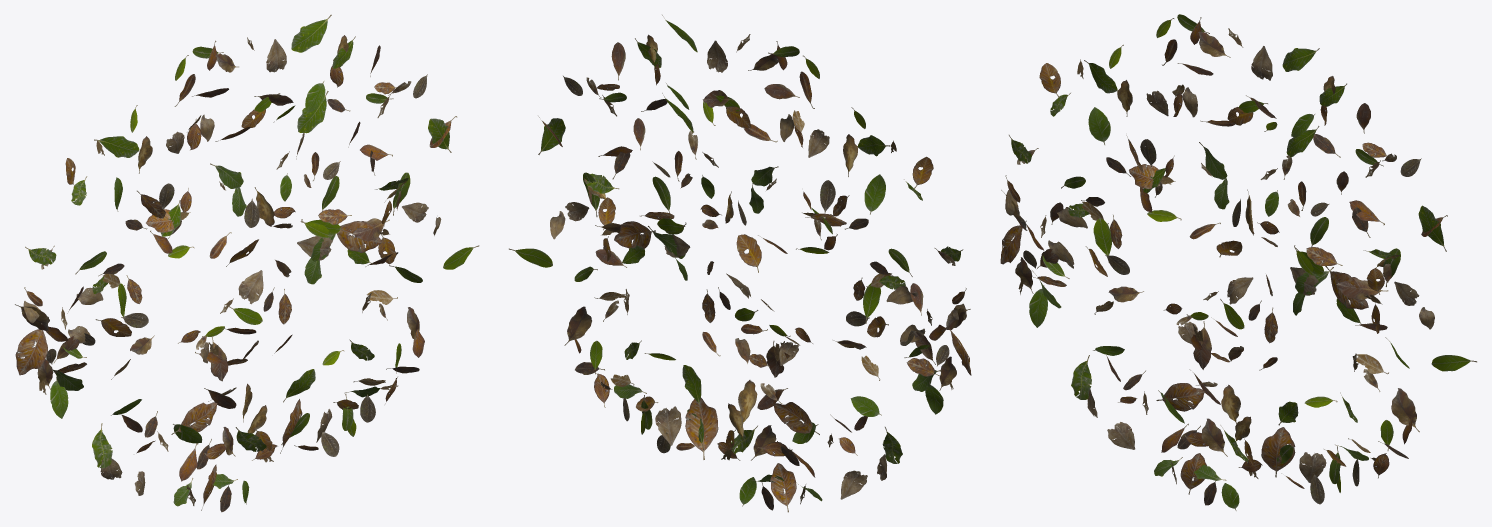
The model's file is Leaf_Pile_01_Var1_LOD0.fbx.
3 views of the same model, side by side, from view 1: azimuth 30°, elevation 25°; view 2: azimuth 150°, elevation 25°; view 3: azimuth 330°, elevation 25° (orthographic). The views are drawn at different scales.
Visible parts, largest first — view 1: Var1_LOD0; view 2: Var1_LOD0; view 3: Var1_LOD0.
Part boxes in pixels (<box>): Var1_LOD0: <box>15,14,479,512</box>; Var1_LOD0: <box>509,15,971,512</box>; Var1_LOD0: <box>1000,14,1476,510</box>.
Bounding box in the file's own units: 169 × 165 × 7.56.
